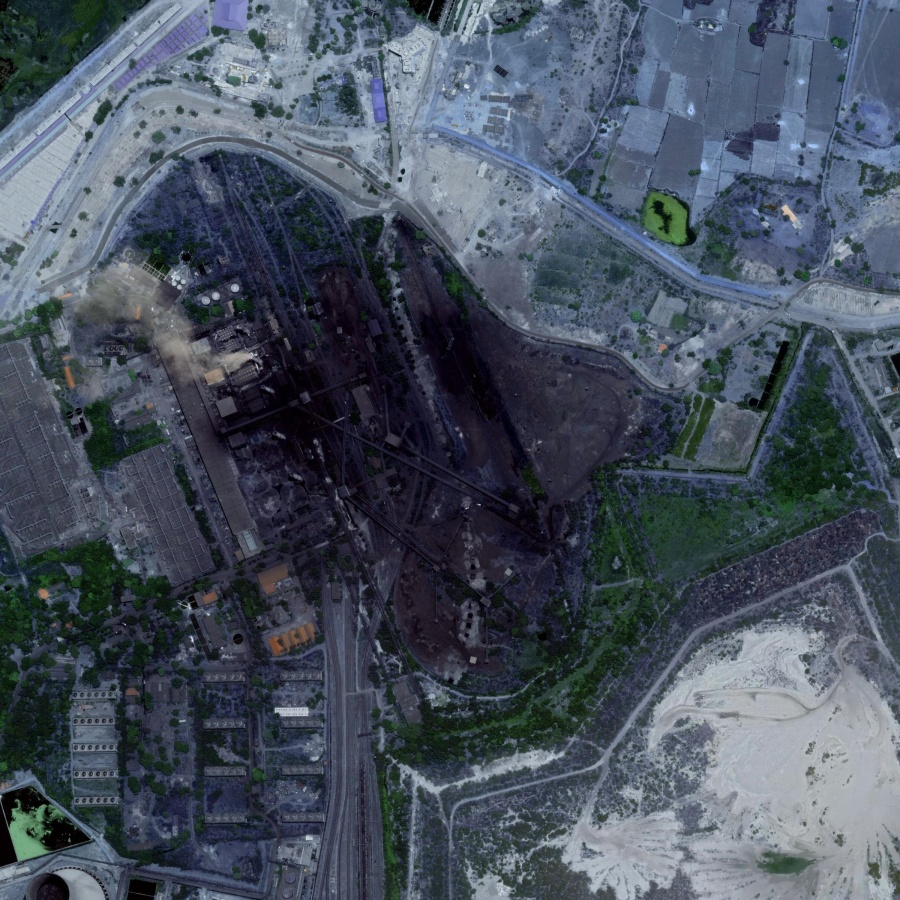PowerPlant: (94, 136, 585, 675)
